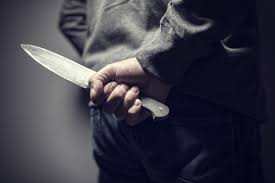weapon-unusual: (17, 39, 170, 126)
